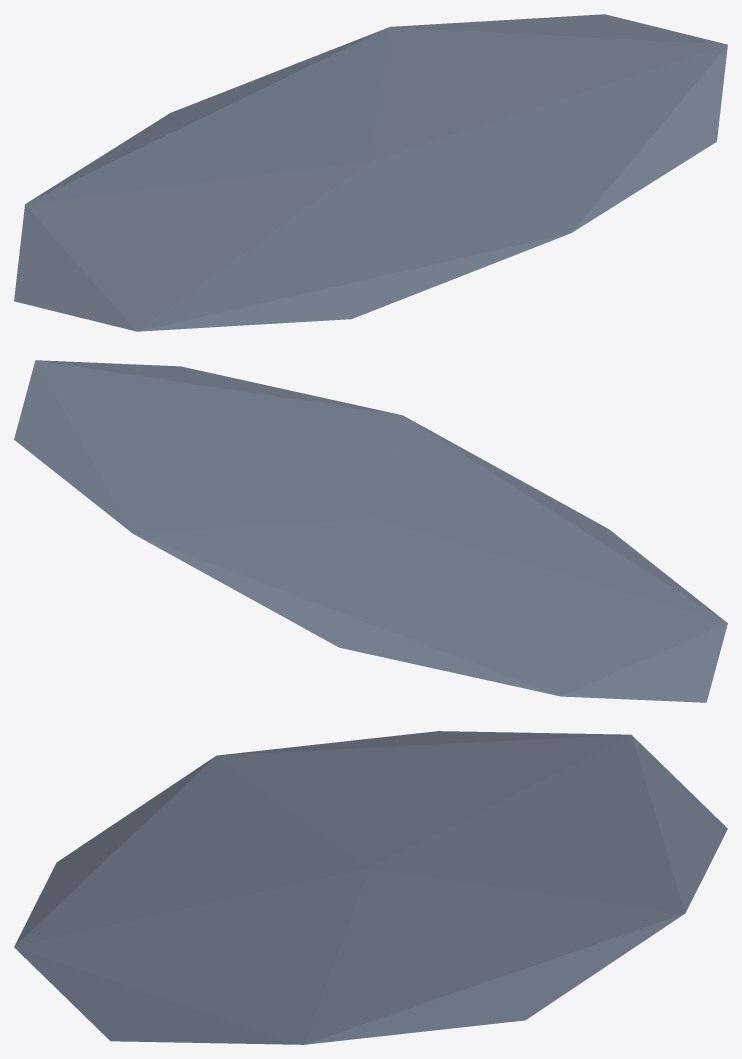
File: EXTG_SouthRoad_01.glb
3 renders of one model, top to bottom at view 1: azimuth 30°, elevation 25°; view 2: azimuth 150°, elevation 25°; view 3: azimuth 270°, elevation 25°, orthographic. The views are drawn at different scales.
Visible parts, largest first — view 1: EXTG_SouthRoad_01; view 2: EXTG_SouthRoad_01; view 3: EXTG_SouthRoad_01.
Boxes of the visible parts, box(x1,y1,x2,y2) form: EXTG_SouthRoad_01: box(14, 14, 727, 331); EXTG_SouthRoad_01: box(14, 360, 727, 702); EXTG_SouthRoad_01: box(14, 731, 727, 1044).
Bounding box in the file's own units: 2.05 × 0.3642 × 1.22.
